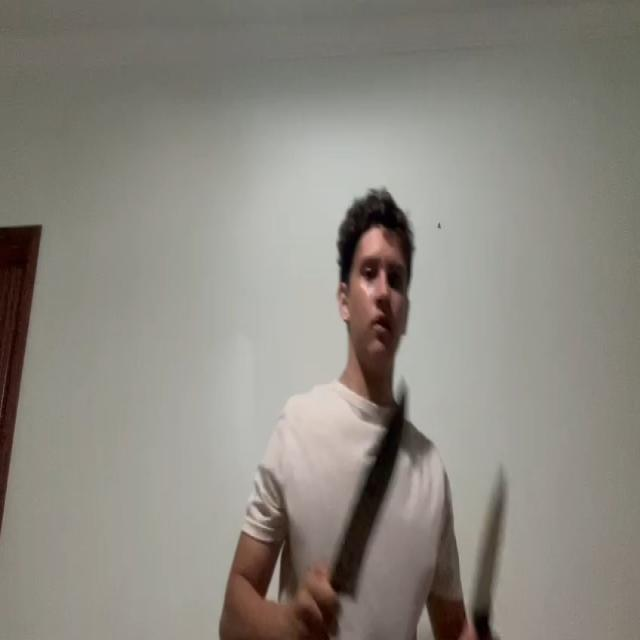knife: (329, 390, 406, 590), (473, 474, 505, 612)
